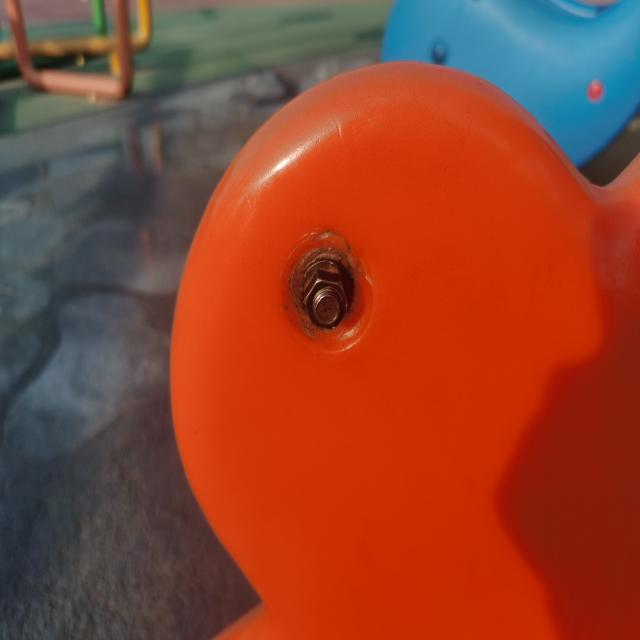bolt nut: (300, 266, 350, 331)
